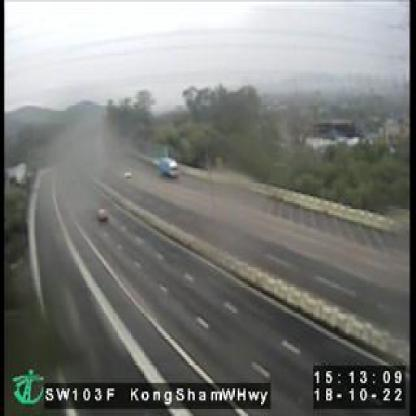Car: (95, 205, 109, 224)
Truck: (156, 156, 180, 178)
